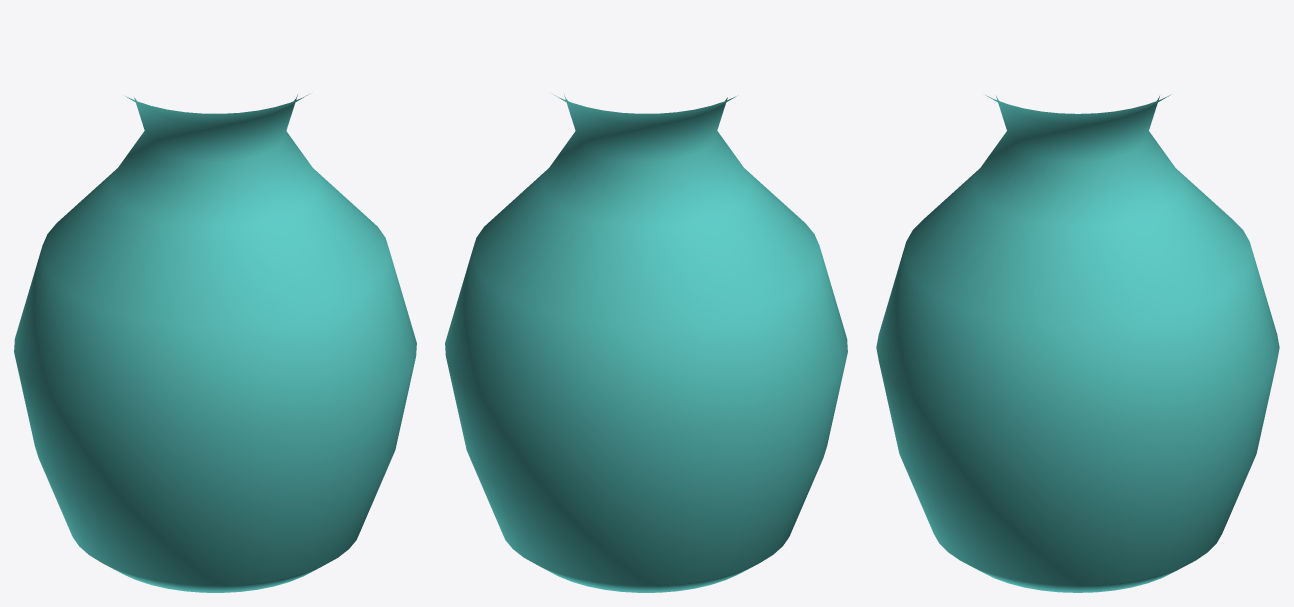
File: vase.gltf
The picture shows the model from 3 angles, left to right: view 1: azimuth 30°, elevation 25°; view 2: azimuth 150°, elevation 25°; view 3: azimuth 270°, elevation 25°; orthographic projection.
Parts seen in each view (by area): view 1: vase; view 2: vase; view 3: vase.
Part boxes in pixels (x1=…): vase: x1=14, y1=94, x2=416, y2=592; vase: x1=445, y1=94, x2=847, y2=592; vase: x1=876, y1=95, x2=1279, y2=592.
Size of the model in its own units: 1.16 by 1.52 by 1.16.
